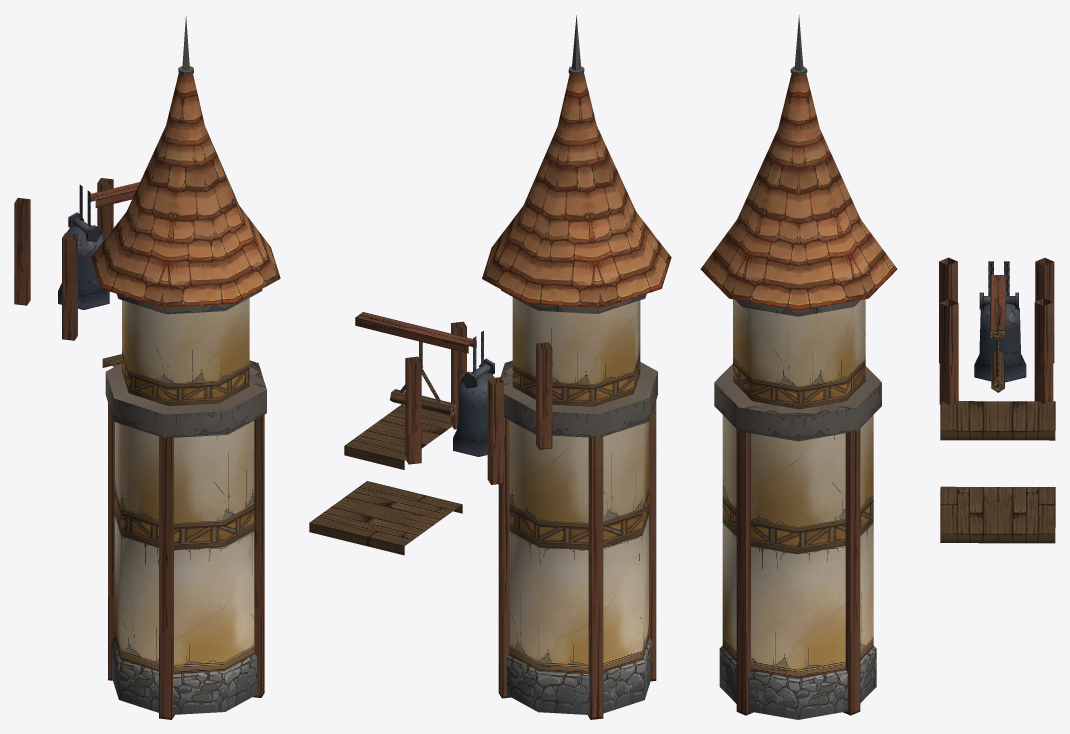
The model's file is 2_CZ_ZhongTa_01.FBX.
3 renders of one model, left to right at view 1: azimuth 30°, elevation 25°; view 2: azimuth 150°, elevation 25°; view 3: azimuth 270°, elevation 25°, orthographic.
Visible parts, largest first — view 1: 2_CZ_ZhongTa_01, 2_CZ_ZhongTa_04, 2_CZ_ZhongTa_02, 2_CZ_ZhongTa_03; view 2: 2_CZ_ZhongTa_01, 2_CZ_ZhongTa_04, 2_CZ_ZhongTa_03, 2_CZ_ZhongTa_02; view 3: 2_CZ_ZhongTa_01, 2_CZ_ZhongTa_04, 2_CZ_ZhongTa_03, 2_CZ_ZhongTa_02.
Boxes of the visible parts, x1,y1,x2,y2 form: 2_CZ_ZhongTa_01: (105,360,266,719); 2_CZ_ZhongTa_04: (91,15,280,314); 2_CZ_ZhongTa_02: (122,298,249,405); 2_CZ_ZhongTa_03: (14,178,139,367); 2_CZ_ZhongTa_01: (498,360,657,719); 2_CZ_ZhongTa_04: (482,15,671,313); 2_CZ_ZhongTa_03: (309,312,552,555); 2_CZ_ZhongTa_02: (512,297,640,406); 2_CZ_ZhongTa_01: (714,364,881,719); 2_CZ_ZhongTa_04: (700,15,897,316); 2_CZ_ZhongTa_03: (939,257,1055,543); 2_CZ_ZhongTa_02: (733,299,865,409).
Size of the model in its own units: 657 by 1880 by 896.
5 materials, 5 textured.
